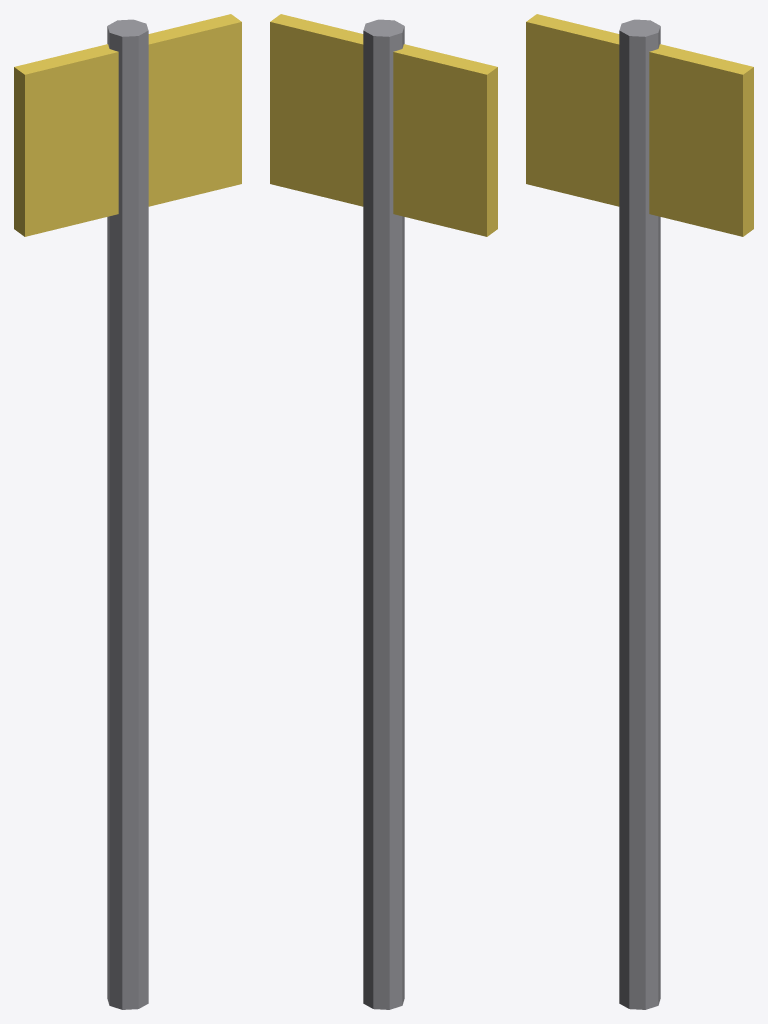
Rendered from detour_sign.glb.
The picture shows the model from 3 angles, left to right: view 1: azimuth 30°, elevation 25°; view 2: azimuth 150°, elevation 25°; view 3: azimuth 330°, elevation 25°; orthographic projection.
Parts seen in each view (by area): view 1: post, plate; view 2: post, plate; view 3: post, plate.
Boxes of the visible parts, box(x1,y1,x2,y2) form: post: box(107, 19, 148, 1009); plate: box(14, 14, 241, 236); post: box(363, 19, 404, 1009); plate: box(270, 14, 497, 236); post: box(619, 19, 660, 1009); plate: box(526, 14, 753, 236).
Bounding box in the file's own units: 0.7002 × 3 × 0.1191.
